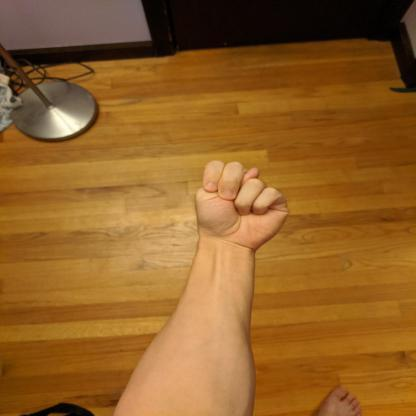N: (190, 158, 296, 254)
